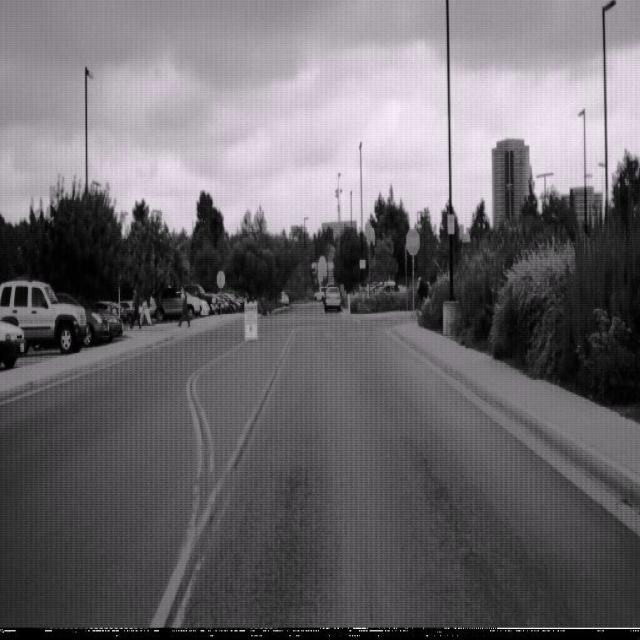stop: (405, 227, 421, 256)
